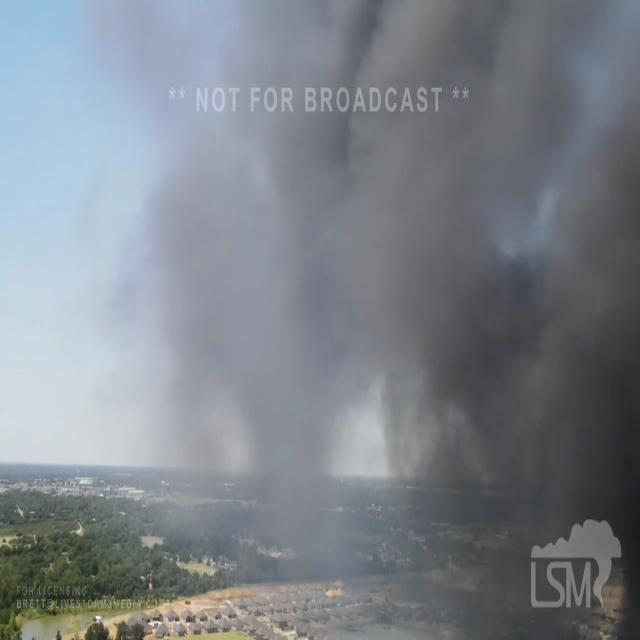Smoke: (266, 29, 632, 529)
